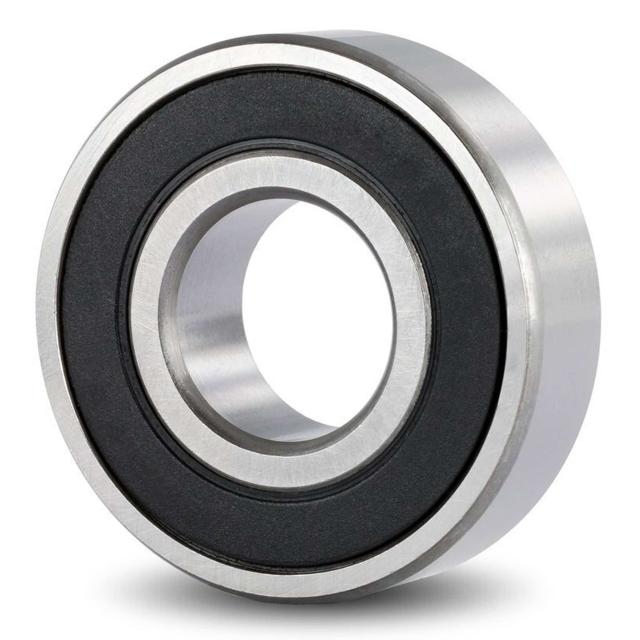Bearing: (32, 25, 603, 606)
